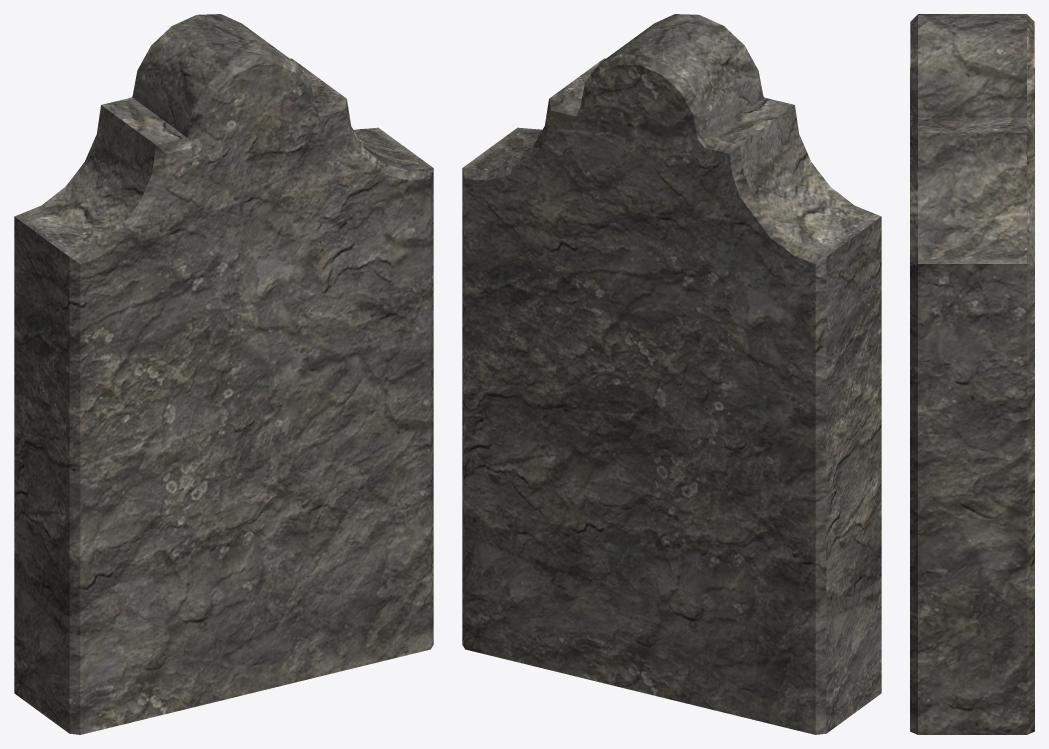
Rendered from Gravestones_Stone_03.fbx.
3 renders of one model, left to right at view 1: azimuth 30°, elevation 25°; view 2: azimuth 150°, elevation 25°; view 3: azimuth 270°, elevation 25°, orthographic.
Parts seen in each view (by area): view 1: polySurface2; view 2: polySurface2; view 3: polySurface2.
Boxes of the visible parts, x1,y1,x2,y2 form: polySurface2: (14,14,433,734); polySurface2: (462,14,881,734); polySurface2: (910,14,1034,734).
Bounding box in the file's own units: 0.5601 × 0.9322 × 0.1681.
